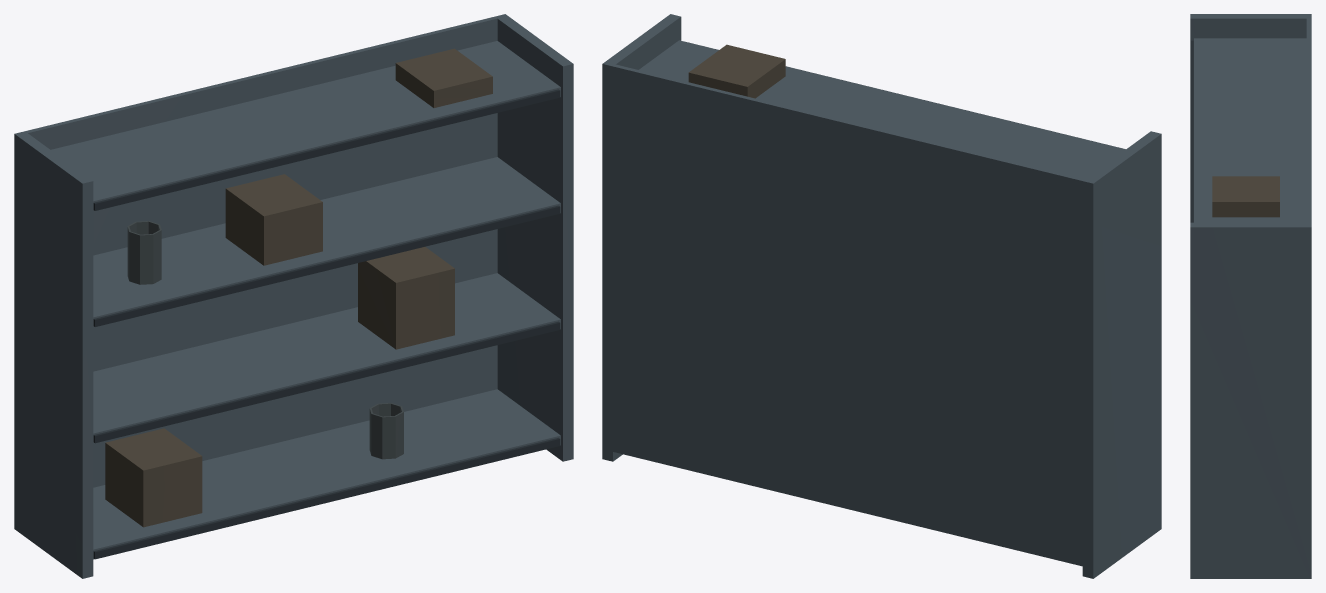
Rendered from shop_shelf.glb.
The picture shows the model from 3 angles, left to right: view 1: azimuth 30°, elevation 25°; view 2: azimuth 150°, elevation 25°; view 3: azimuth 270°, elevation 25°; orthographic projection. The views are drawn at different scales.
Parts seen in each view (by area): view 1: shop_shelf; view 2: shop_shelf; view 3: shop_shelf.
Boxes of the visible parts, left/top/right/bottom form: shop_shelf: left=14, top=14, right=573, bottom=578; shop_shelf: left=602, top=14, right=1161, bottom=578; shop_shelf: left=1190, top=14, right=1311, bottom=578.
Size of the model in its own units: 2.08 by 1.6 by 0.5.
